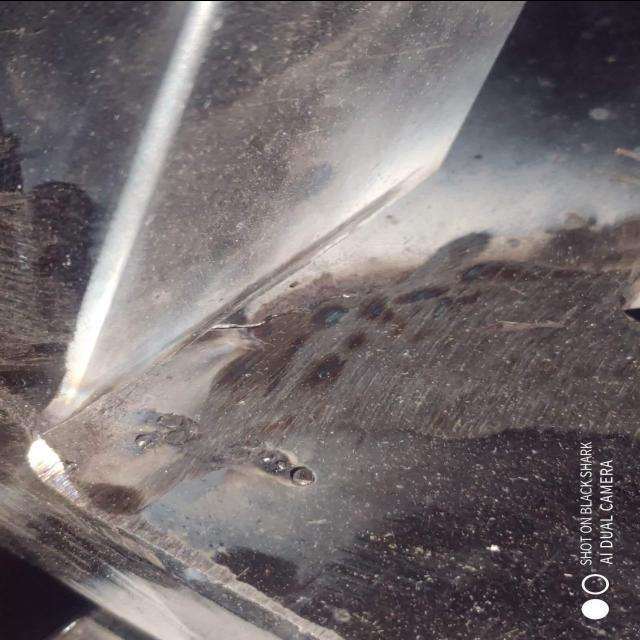defect: (206, 288, 361, 331)
